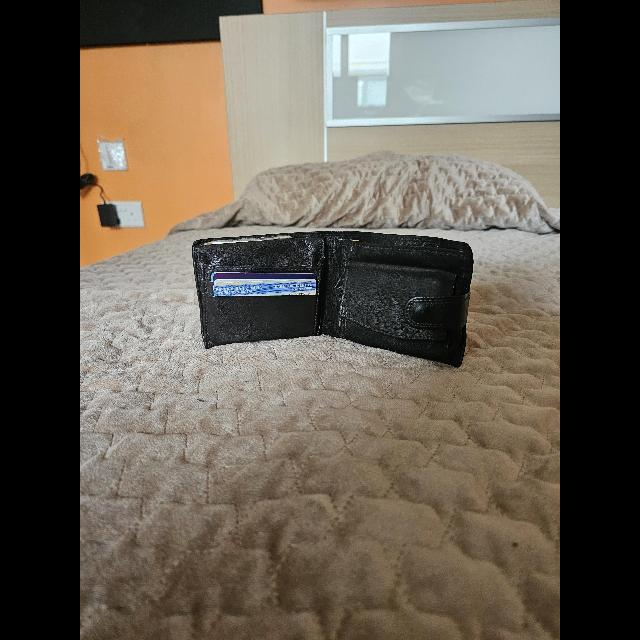Wallet: (194, 230, 471, 366)
